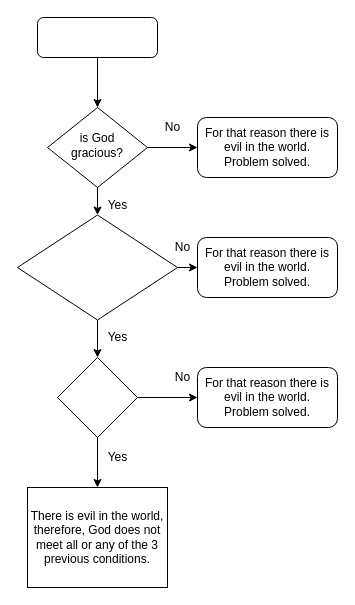
This 355x605 diagram has some shape labels left out. The centre of each missing label's shape, as x and y in pixels:
how is God?: the point at 97,37
is God mighty?: the point at 97,397
may God see and know everything?: the point at 97,267
